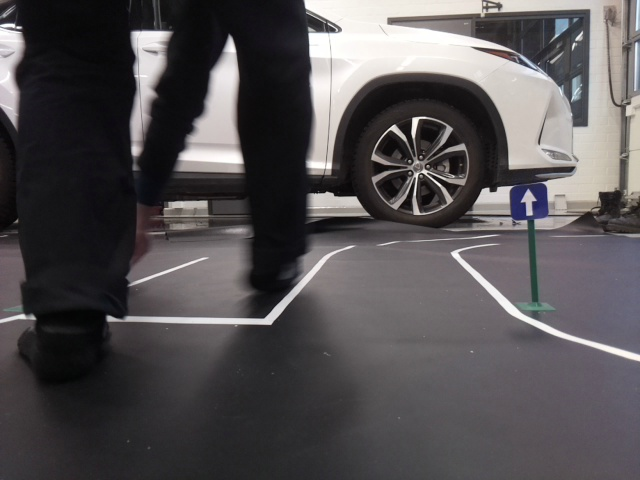OneWay: (511, 186, 549, 215)
